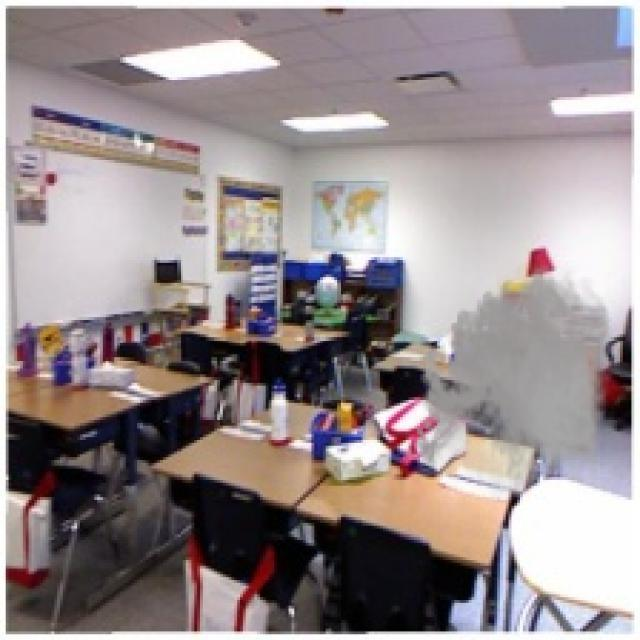Smoke: (408, 257, 620, 509)
